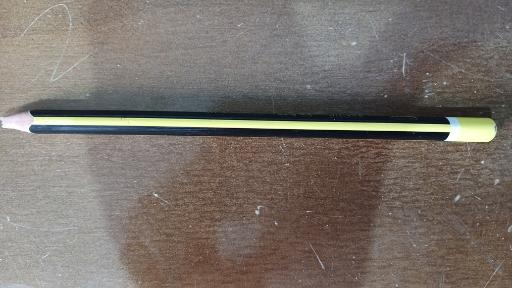Pencil: (1, 109, 504, 143)
